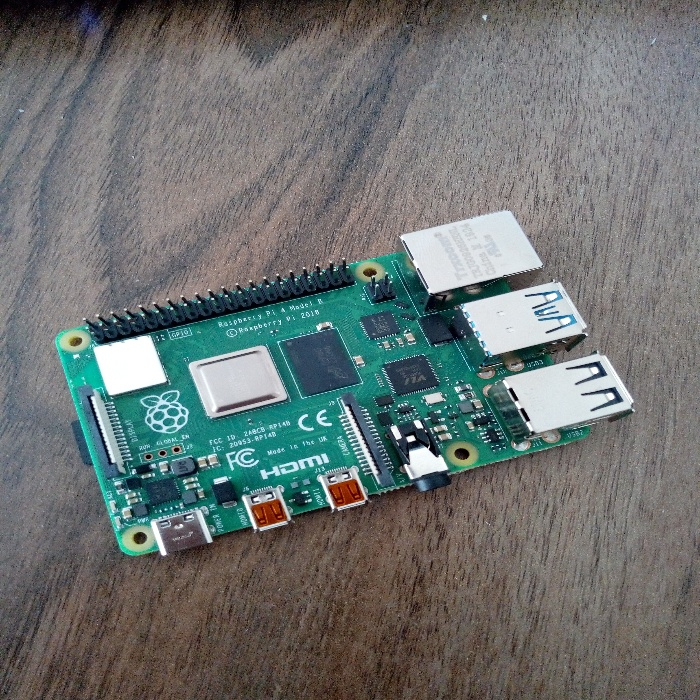raspberry: (44, 184, 624, 587)
